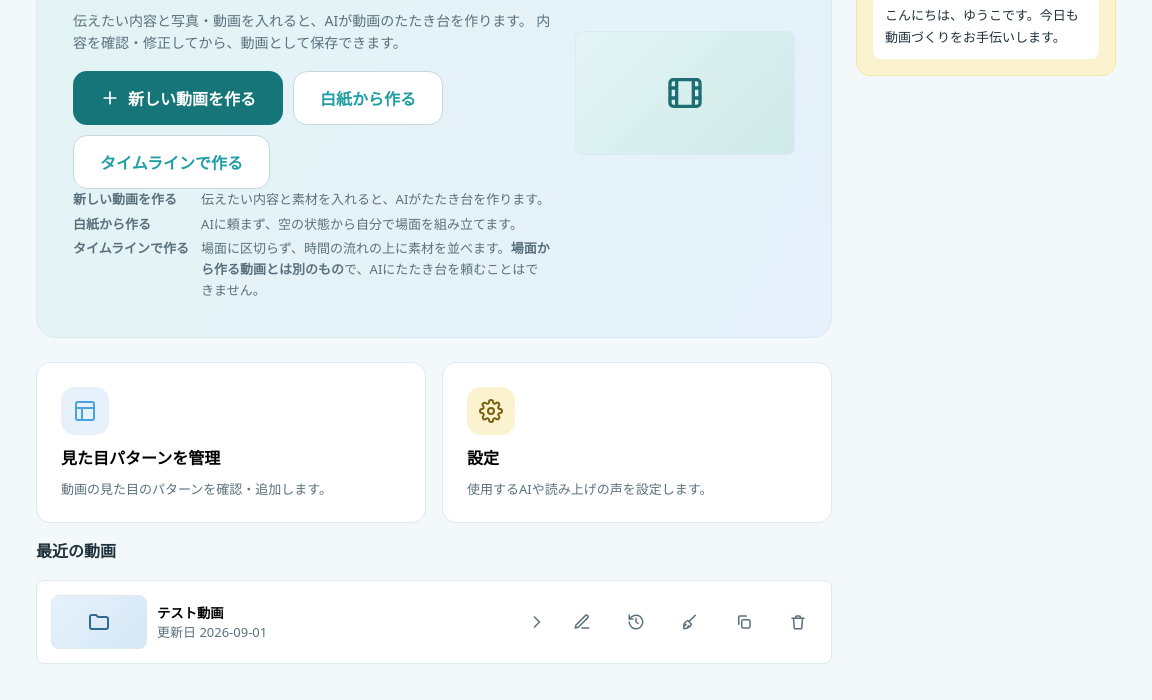
Scenario: 開けなかった動画の復旧（#263） › 理由が取れないときは決まり文句へ倒す（黙らない）
(page scrolled)
Click the button "テスト動画 更新日 2026-09-01". click: [99, 622]
box: [51,595,547,649]
(page scrolled)
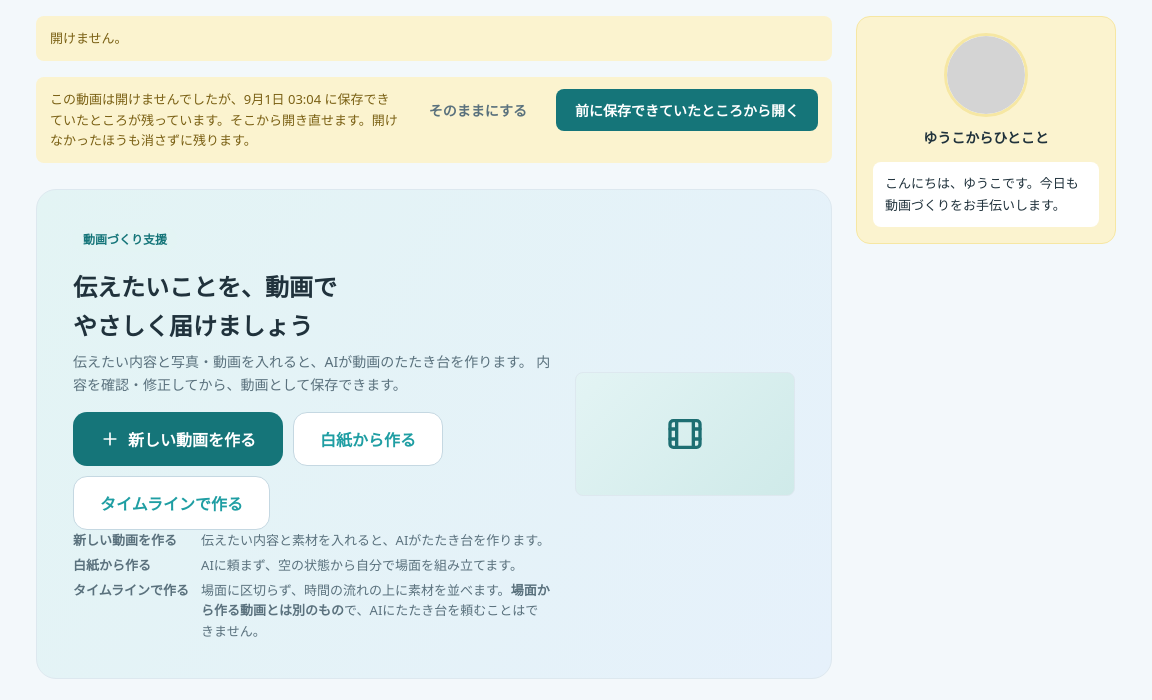
Click the button "前に保存できていたところから開く". click: [687, 110]
box: [556,89,818,131]
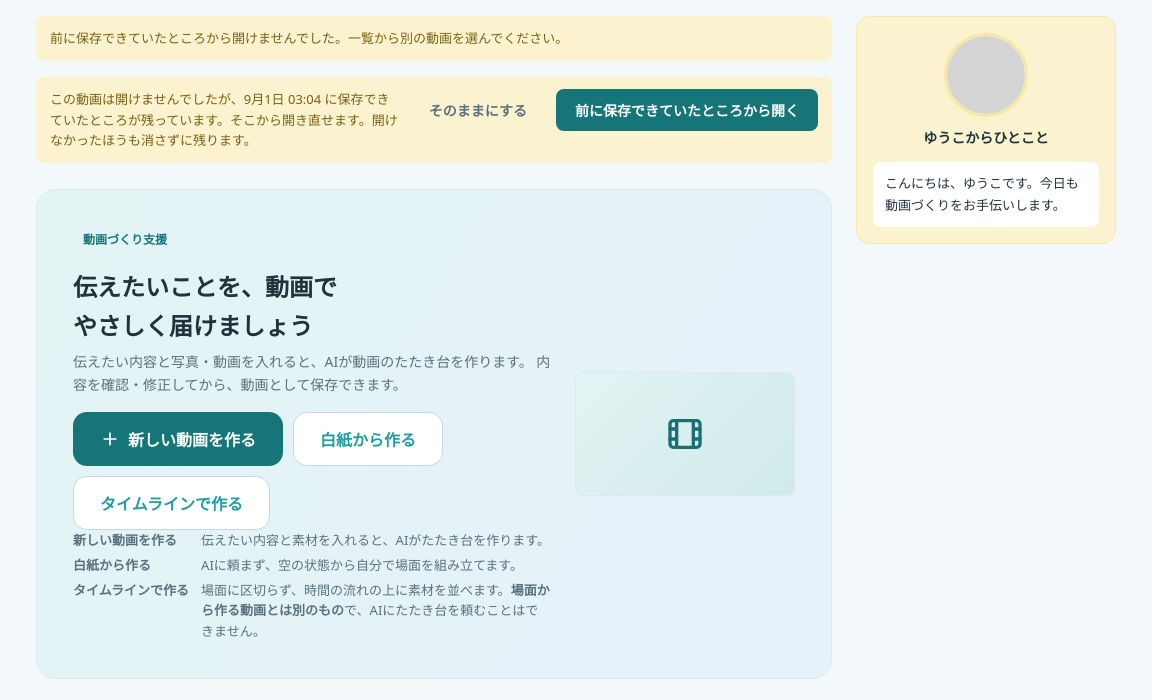
Expected: the text "一覧から別の動画を選んでください" is shown, [50,29,568,47]
